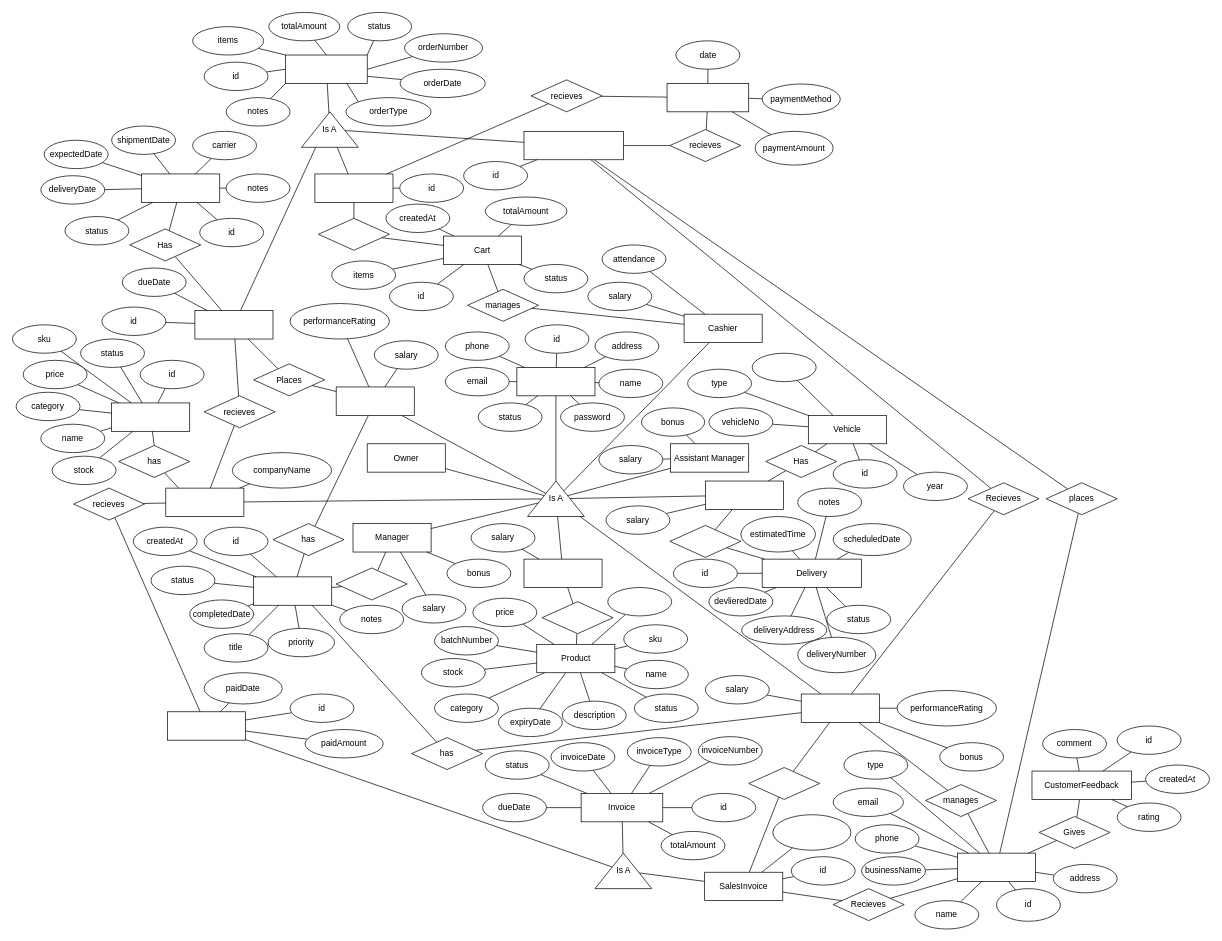
Some shapes in this 1222 by 941 pixel diagram are drawn without their labels. The shapes that lost their labels are listed below. From the top down, each one's box as (x1, y1, x2, y2) in pixels, then its label:
(285, 54, 367, 83): Order
(666, 83, 749, 112): Payment
(523, 131, 623, 160): SalesOrder
(141, 173, 220, 202): Shipment
(314, 173, 393, 202): RetailOrder
(318, 218, 389, 250): uses
(194, 310, 273, 339): PurchaseOrder
(516, 367, 595, 396): User
(752, 353, 816, 382): color
(111, 402, 190, 431): Supply
(335, 386, 414, 415): Stock Keeper
(165, 487, 244, 517): Supplier
(705, 480, 783, 509): Driver
(669, 525, 741, 557): performs
(253, 576, 332, 605): Task
(335, 567, 407, 600): creates
(523, 558, 602, 588): Distributor
(541, 601, 613, 634): Distributes
(607, 587, 672, 616): location
(167, 711, 245, 740): PurchaseInvoice
(801, 693, 879, 722): Salesman
(748, 767, 820, 799): makes
(772, 814, 851, 850): collectedAmount
(957, 852, 1036, 882): Customer
